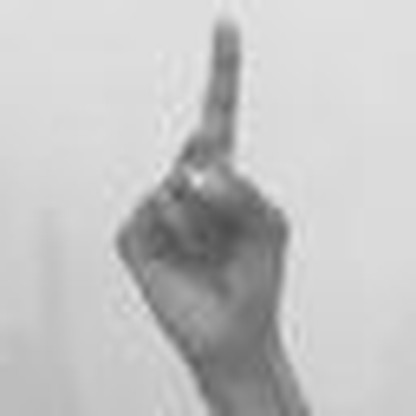d: (103, 8, 296, 362)
